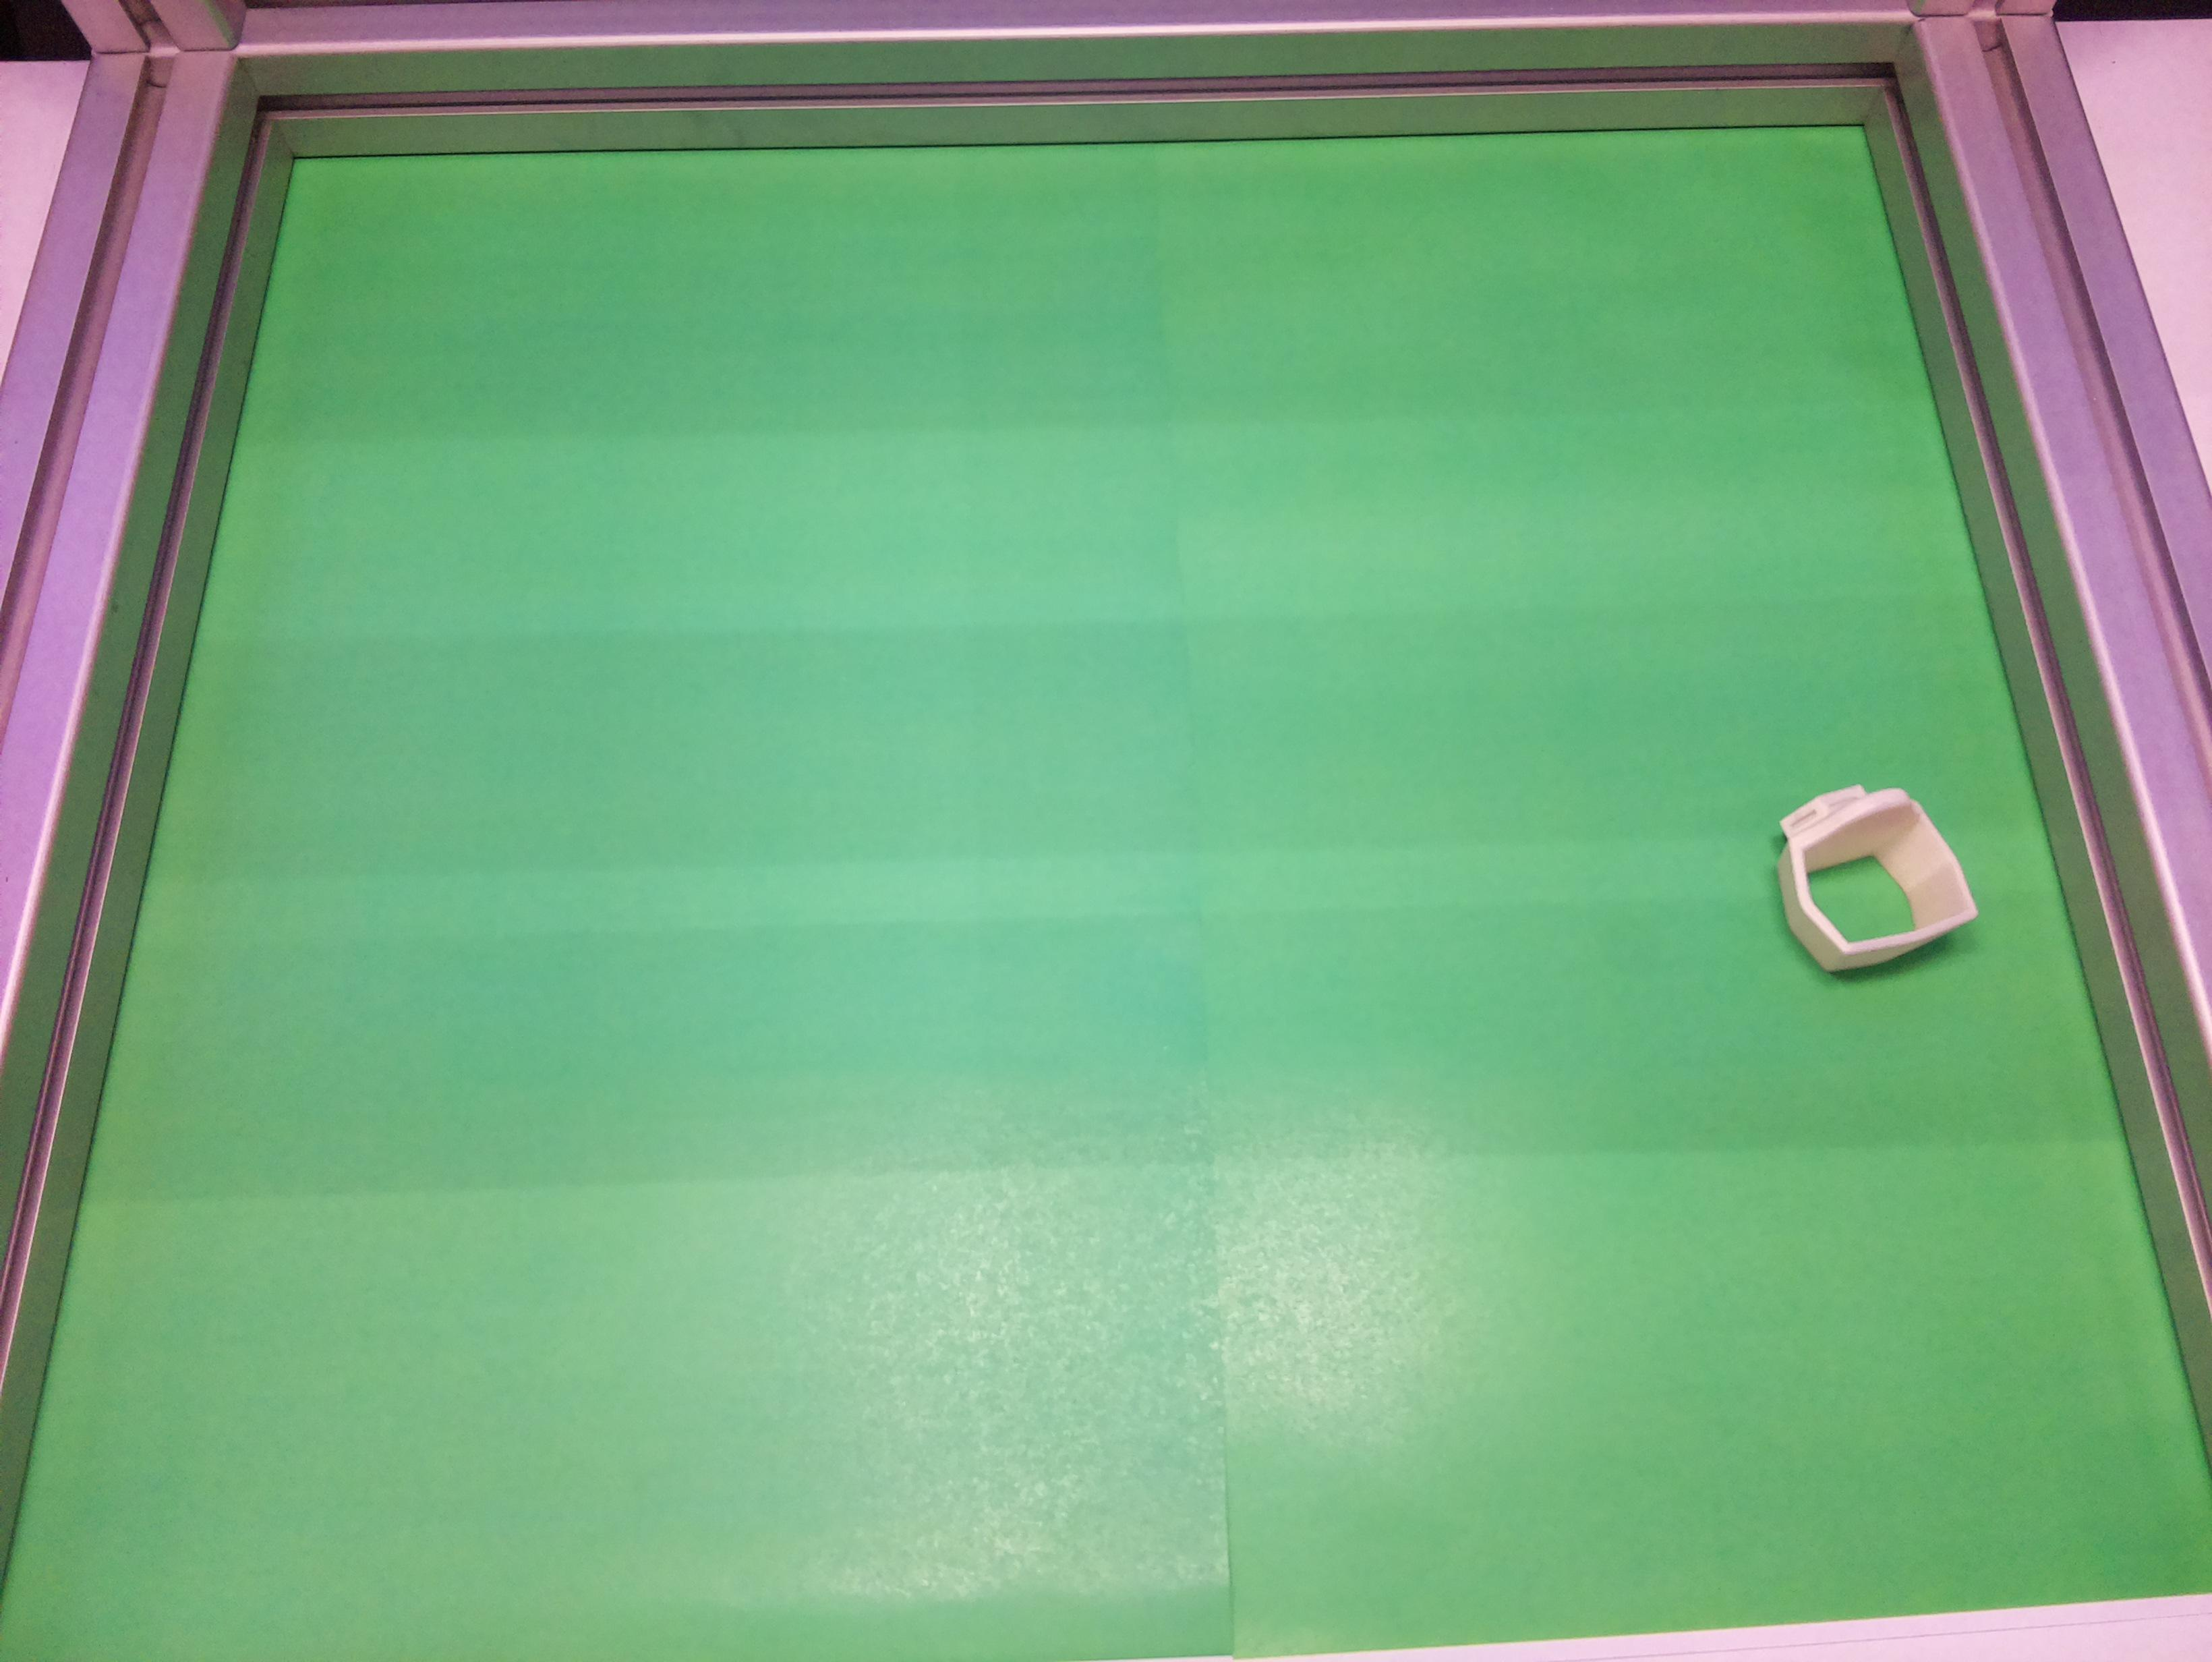tool_holder: (1744, 754, 1985, 993)
